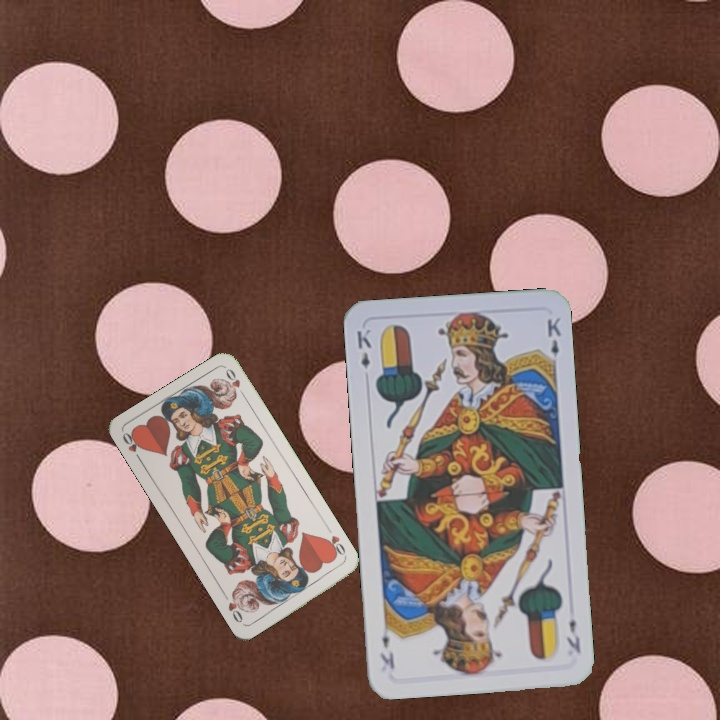EK: (352, 325, 374, 371), (562, 615, 583, 656)
HO: (320, 524, 349, 561), (118, 427, 145, 466)
